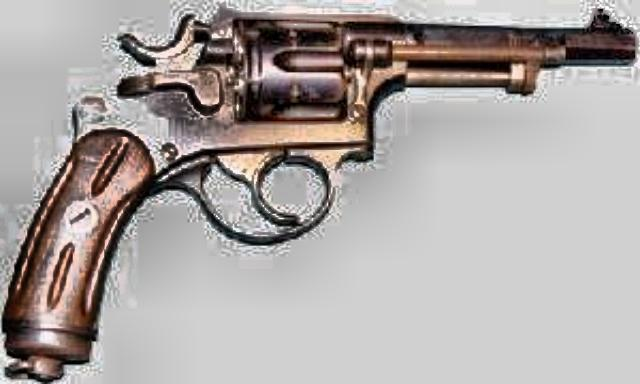pistol: (1, 4, 630, 374)
